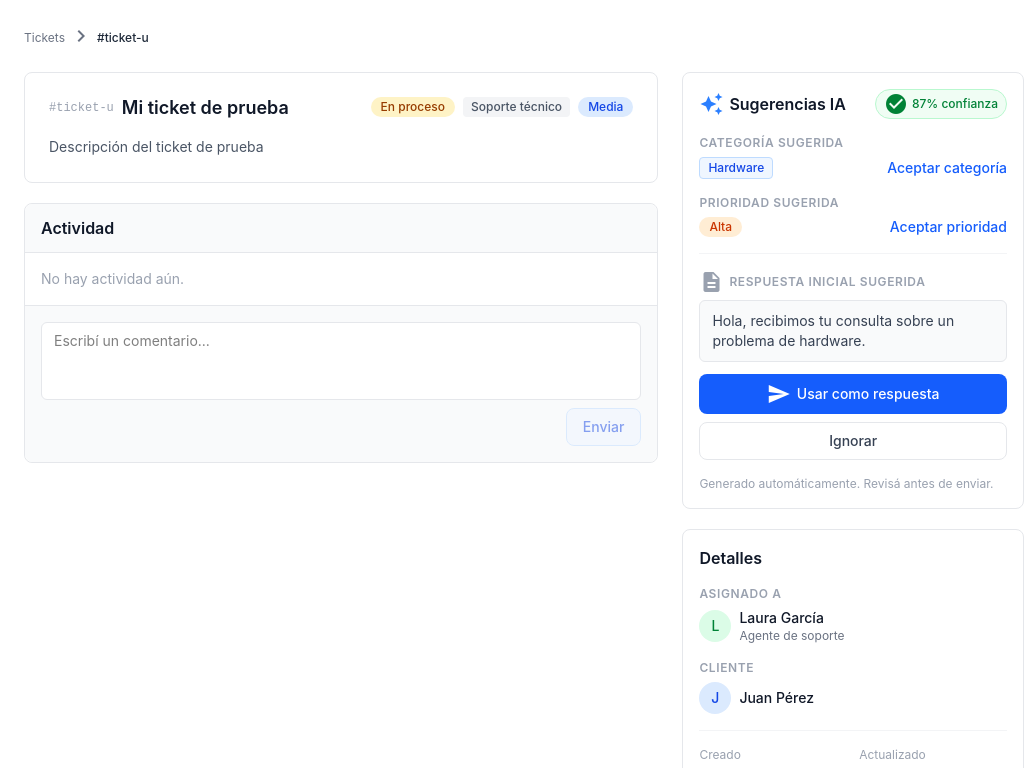
Test case: TicketDetailPage › AI triage panel › "Usar como respuesta" prefills the comment textarea with the suggested response
The width and height of the screenshot is (1024, 768).
Click the button "Usar como respuesta": (853, 394) [699,374,1007,414]
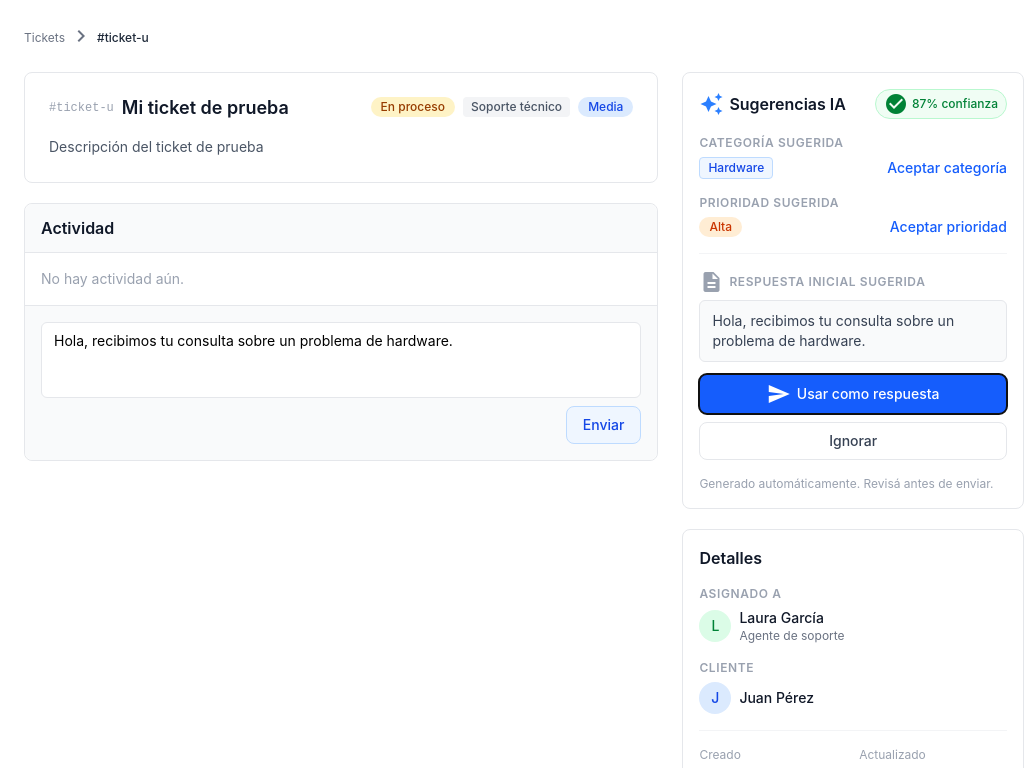
Check: the text box named "Nuevo comentario" holds "Hola, recibimos tu consulta sobre un problema de hardware.", box [41,322,641,398]
